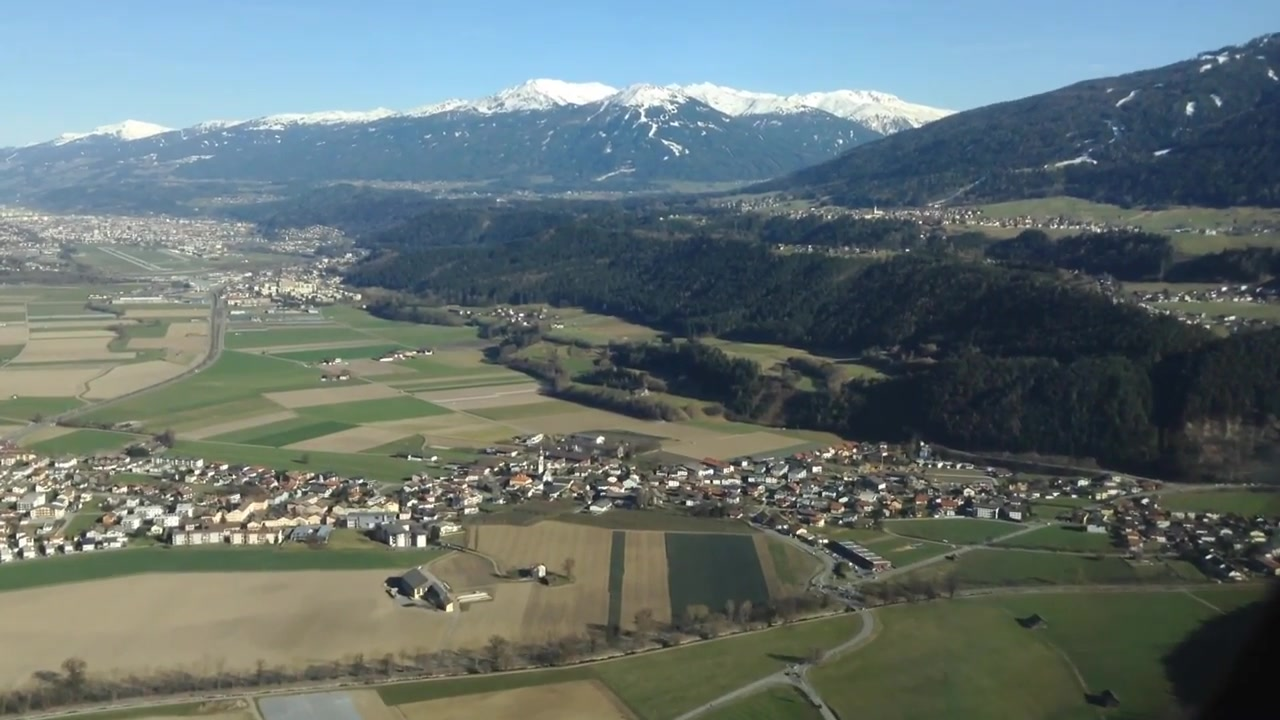runway: (96, 246, 165, 272)
